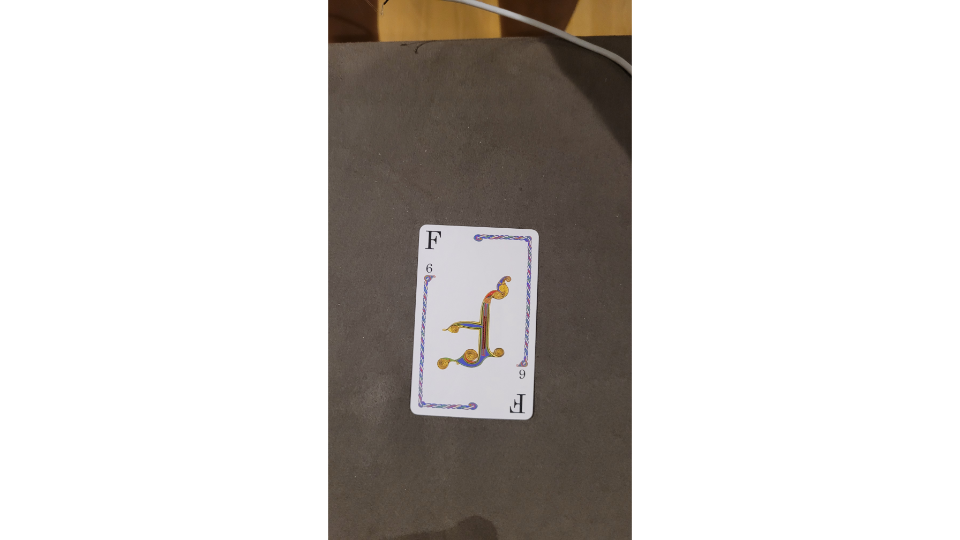F: (406, 220, 542, 424)
